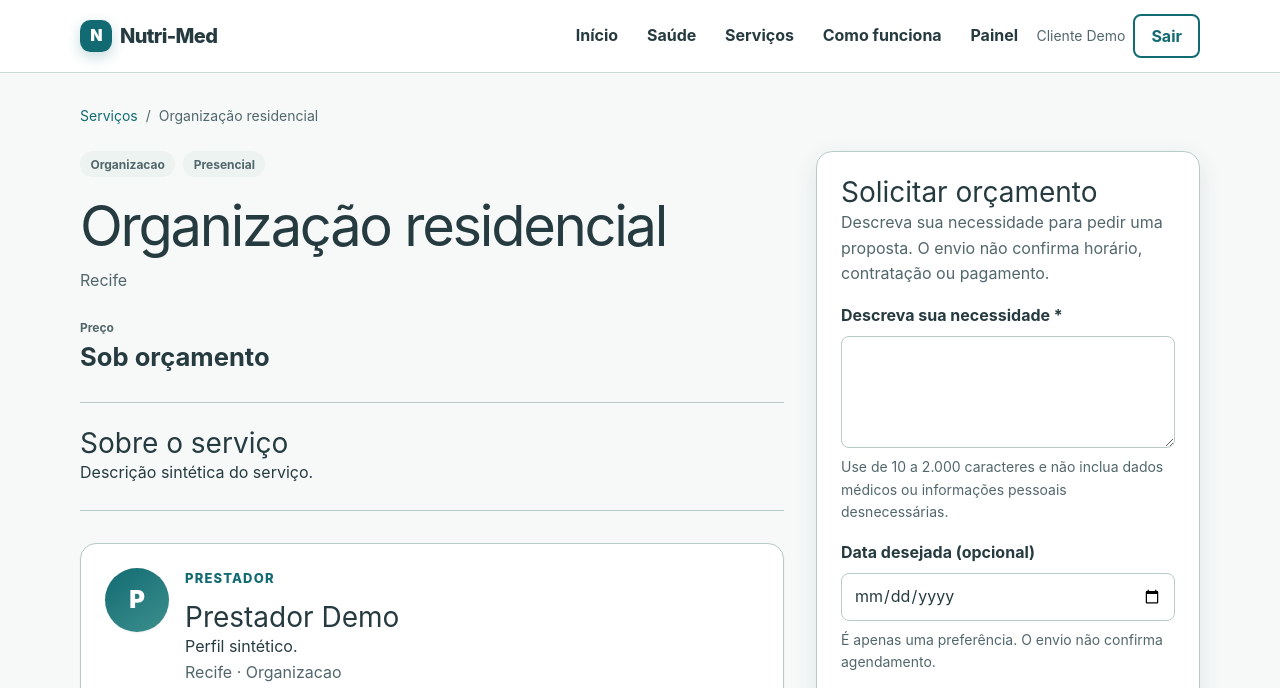
solicitação de orçamento › confirma explicitamente, aceita data vazia e impede clique duplo
In the text box labelled "Descreva sua necessidade *": [1008, 392] box [841,336,1175,448], type "Organizar dois ambientes da residência."
(page scrolled)
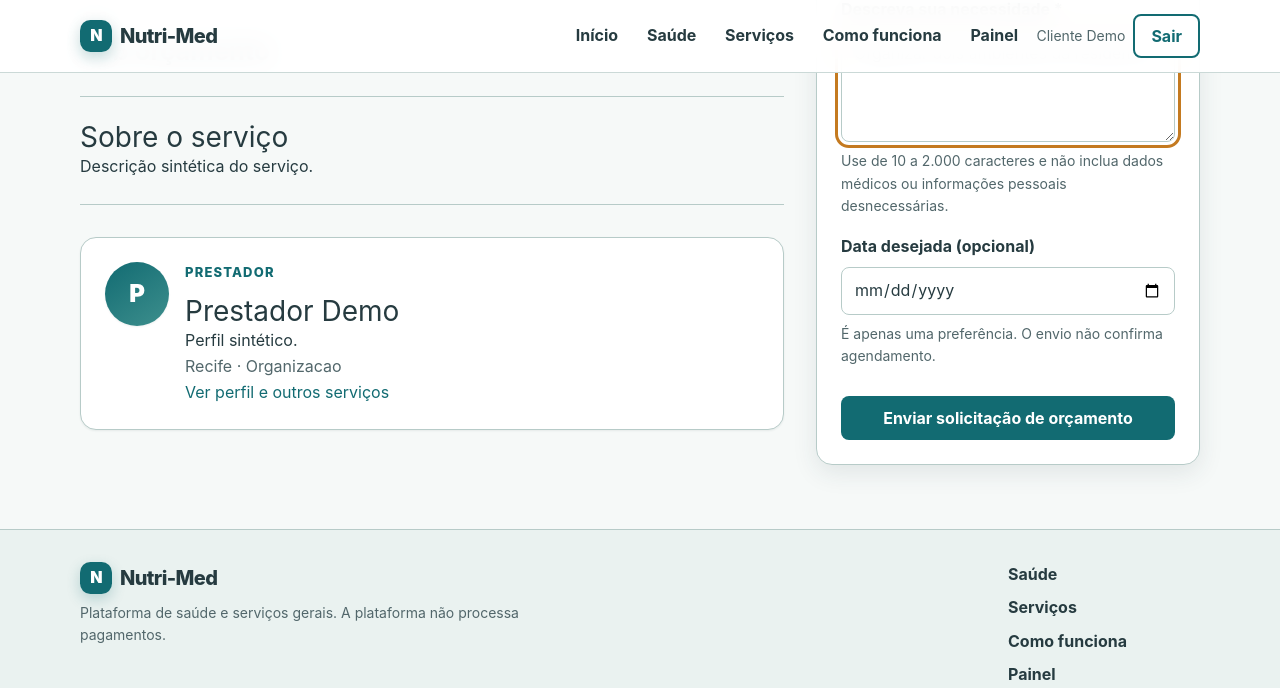
Click the button "Enviar solicitação de orçamento": [1008, 418] box [841,396,1175,440]
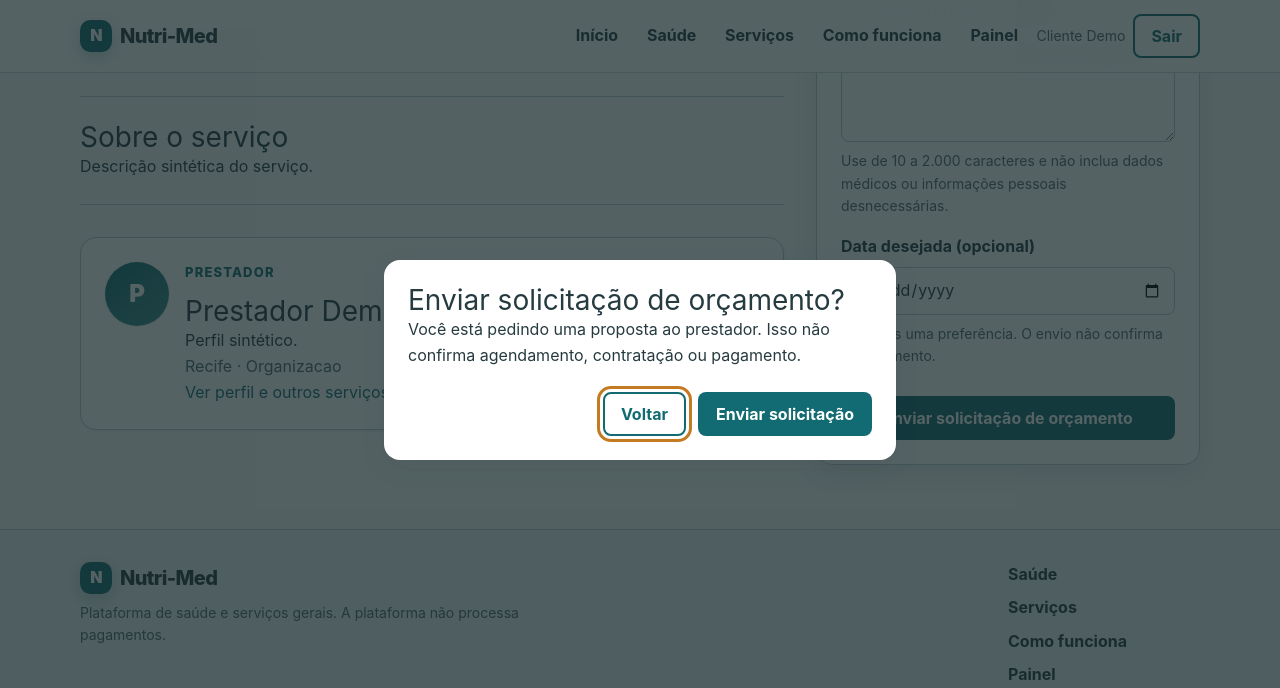
Check: the text "não confirma agendamento, contratação ou pagamento" is shown, box [408,319,830,365]
Double-click the button "Enviar solicitação": [785, 414] box [698,392,872,436]
(page scrolled)
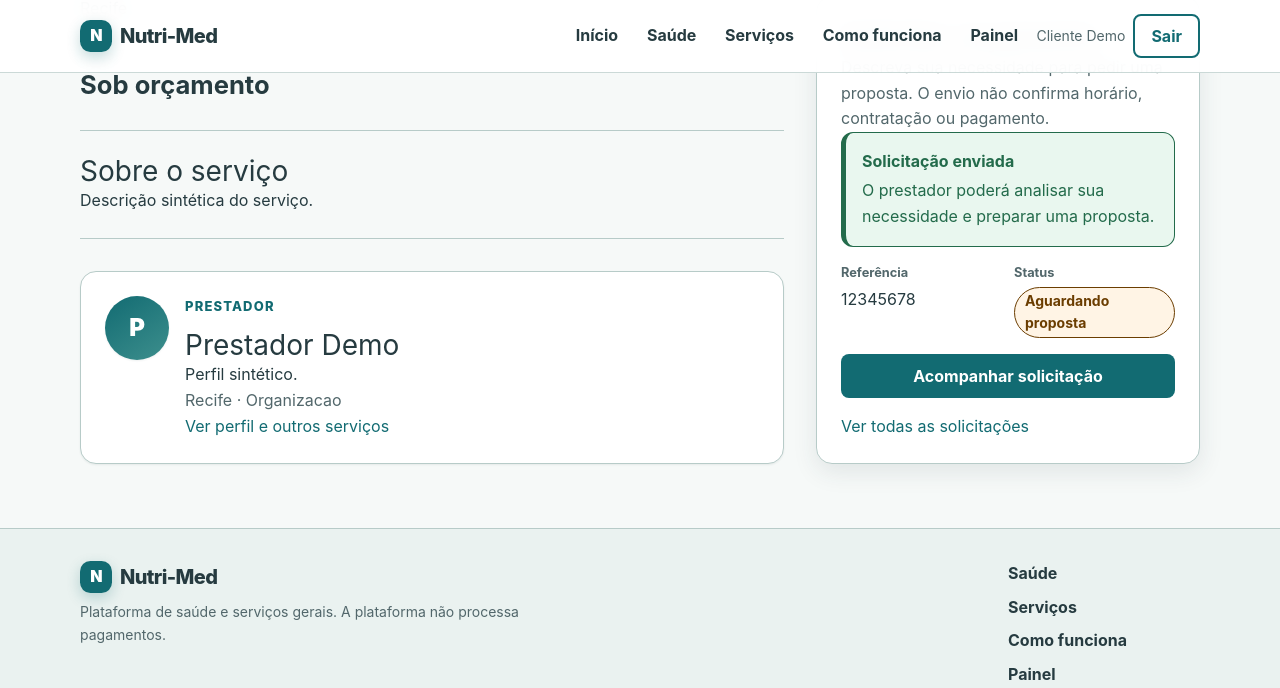
Check: the text "Solicitação enviada" is shown, box [862,151,1014,171]
Check: the text "12345678" is shown, box [841,289,916,309]
Check: the text "Aguardando proposta" is shown, box [1014,287,1175,338]
